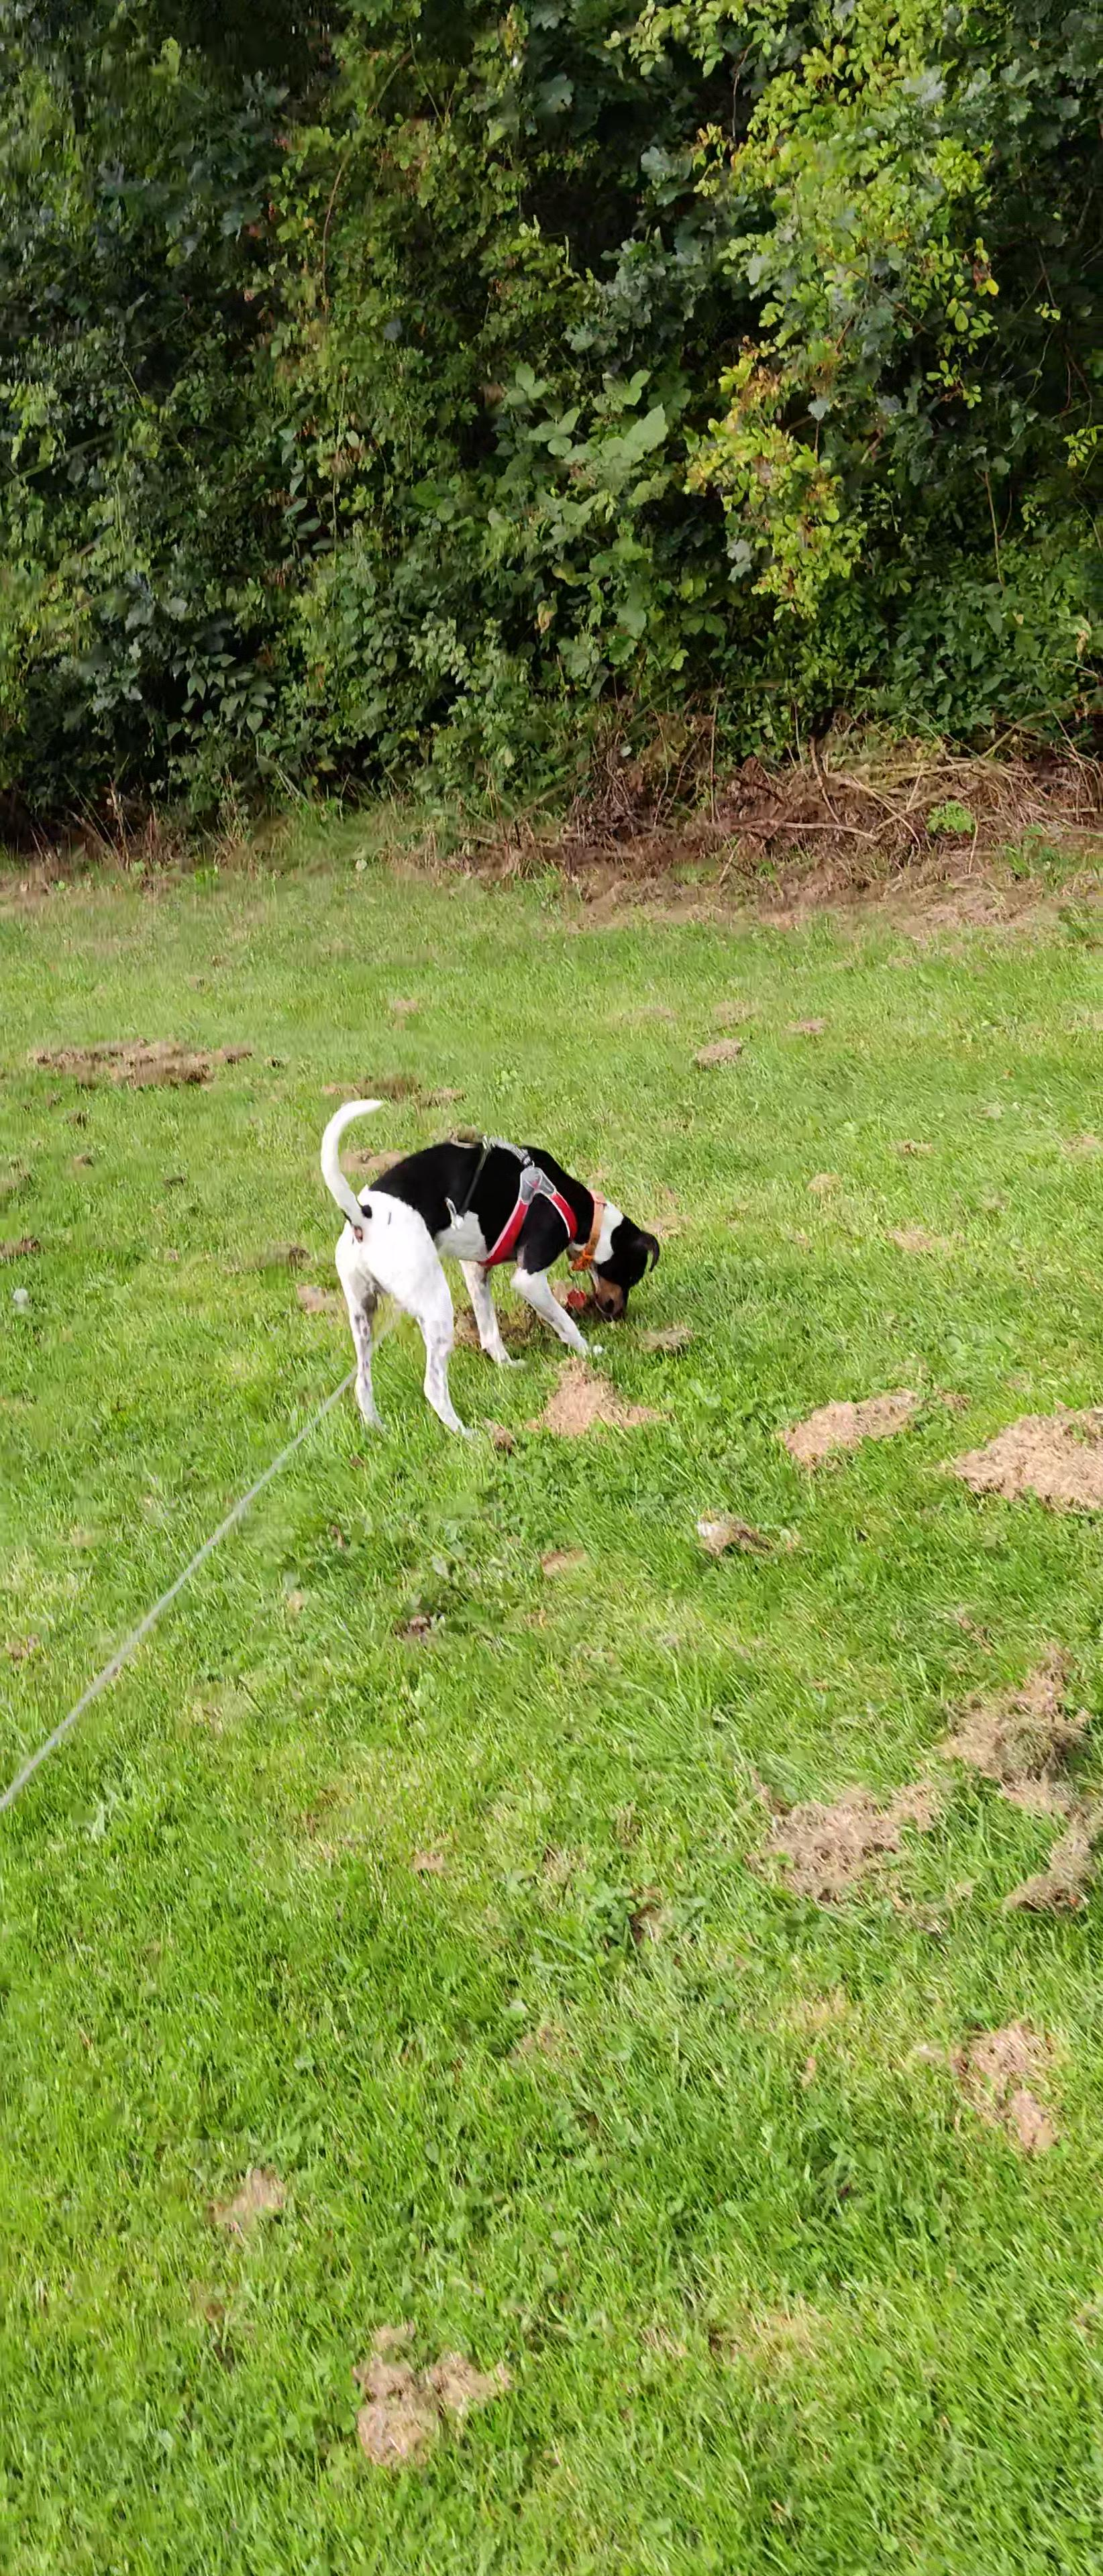Dog: (296, 1081, 669, 1457)
